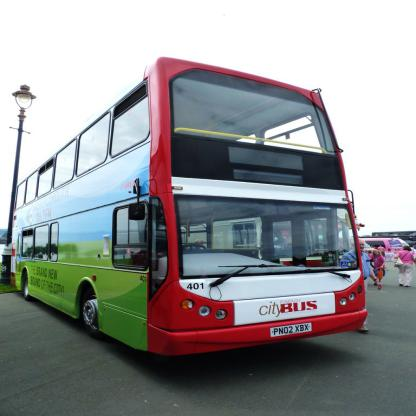Bus: (7, 55, 367, 357), (178, 214, 354, 271), (360, 238, 413, 262)
